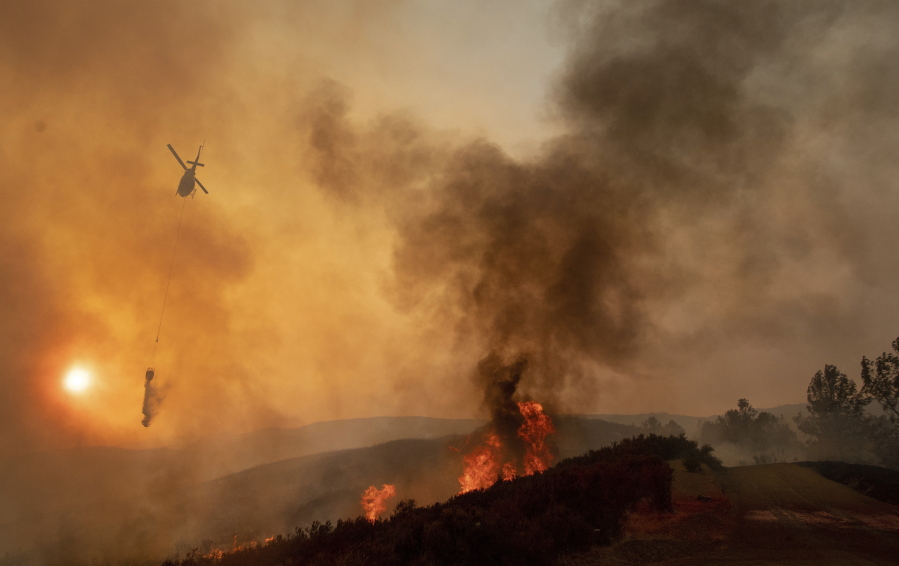fire: (462, 405, 552, 484), (52, 352, 113, 401), (360, 486, 396, 523)
smoke: (10, 14, 424, 342), (428, 147, 888, 387), (572, 11, 890, 144), (11, 409, 355, 530)
